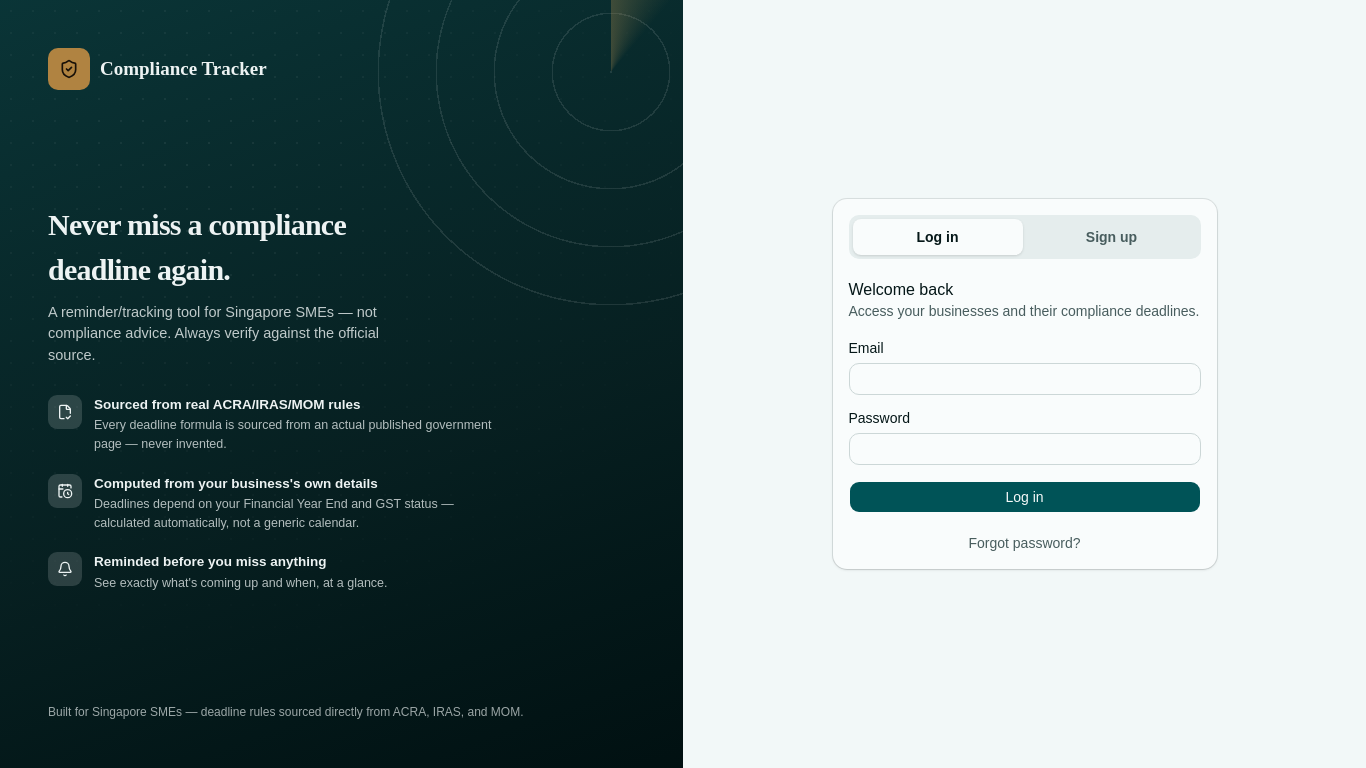
it: LoginForm › switches back to login mode when the Log in toggle is clicked again
Click the button "Sign up": (1112, 237) x1=1026 y1=219 x2=1196 y2=255
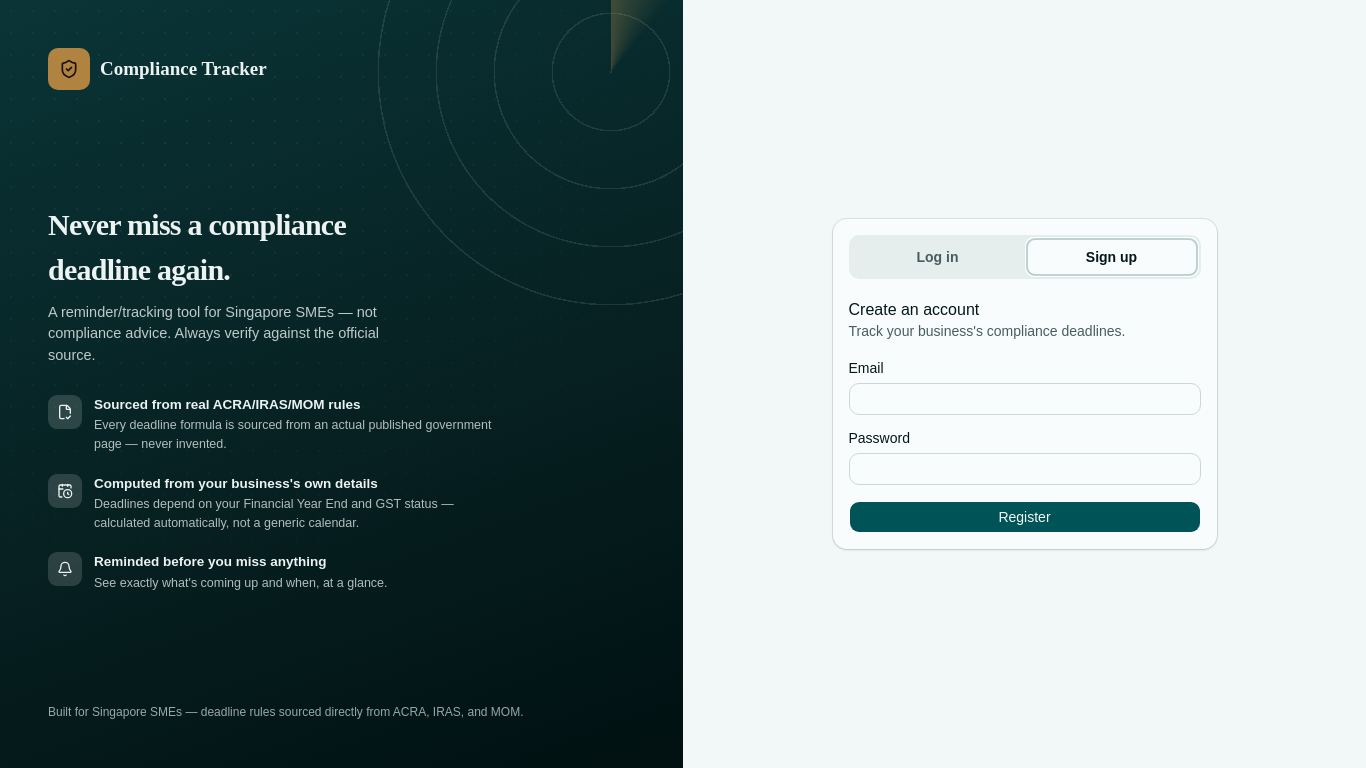
Click the button "Log in": (938, 257) x1=852 y1=239 x2=1022 y2=275
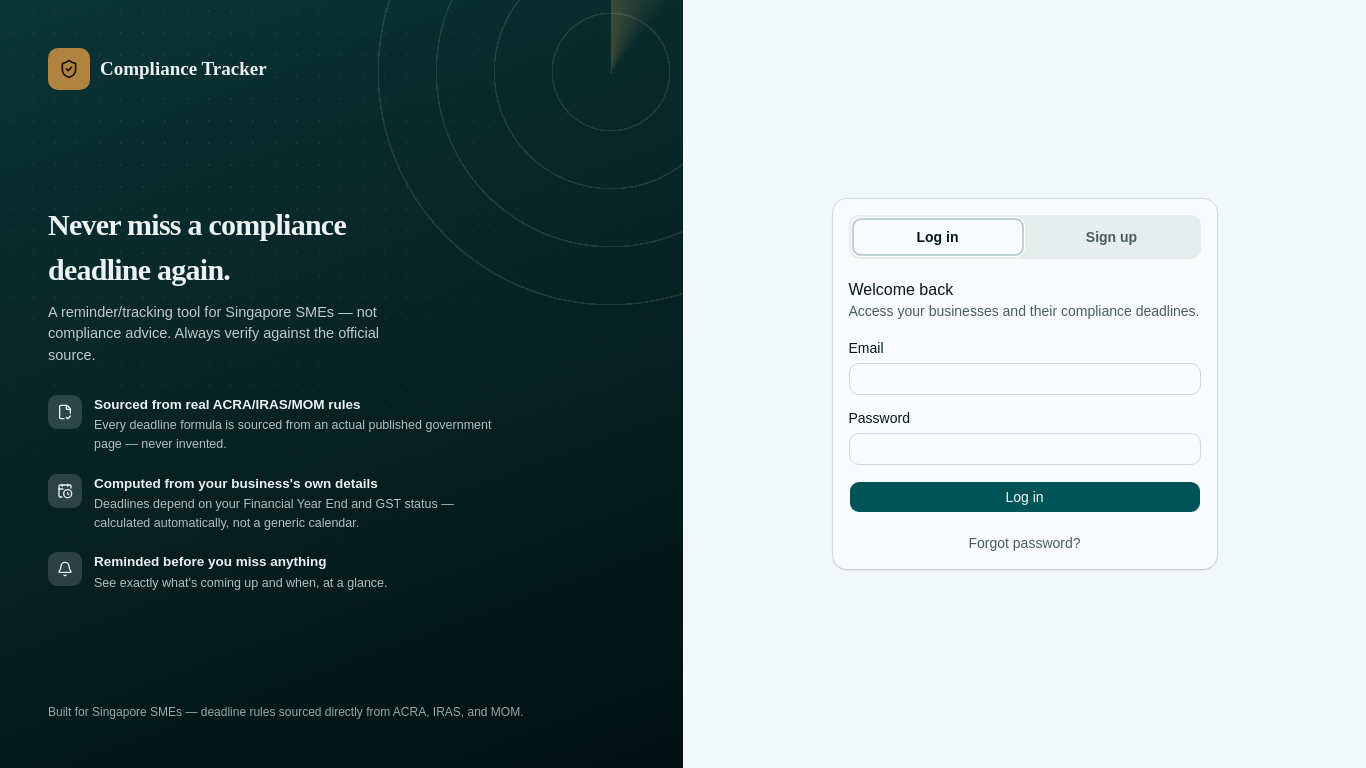
expect the text "Welcome back" is shown: met, box x1=848 y1=281 x2=953 y2=298
